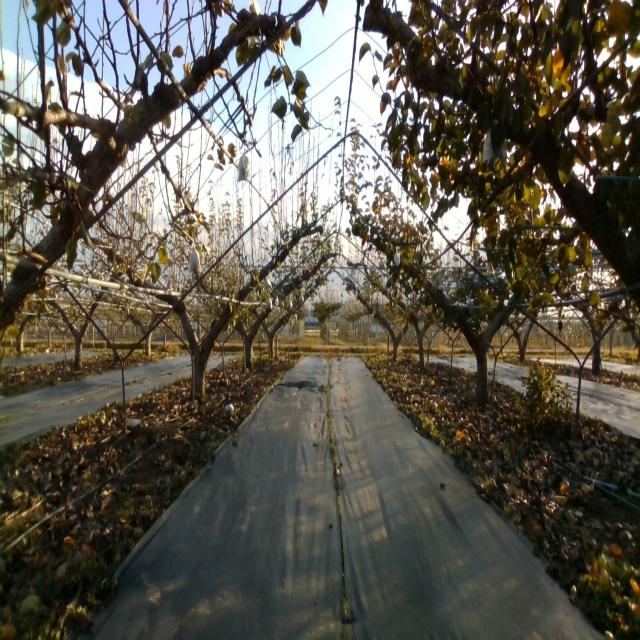pearbags: (186, 240, 202, 274), (237, 146, 249, 183)
